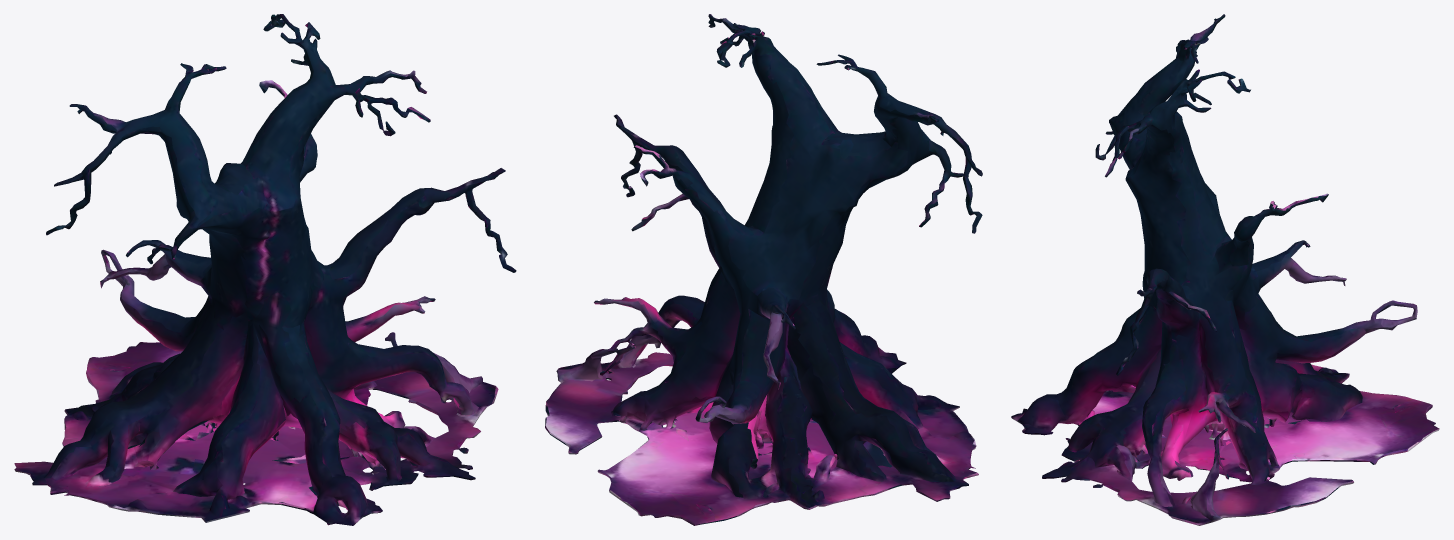
Rendered from sea-root-se-generated-2026-05-17T19-46-57-788Z.low.glb.
The picture shows the model from 3 angles, left to right: view 1: azimuth 30°, elevation 25°; view 2: azimuth 150°, elevation 25°; view 3: azimuth 270°, elevation 25°; orthographic projection. The views are drawn at different scales.
Parts seen in each view (by area): view 1: temp_mesh.ply; view 2: temp_mesh.ply; view 3: temp_mesh.ply.
Boxes of the visible parts, bbox=[...] form: temp_mesh.ply: bbox=[14, 14, 516, 525]; temp_mesh.ply: bbox=[545, 14, 982, 525]; temp_mesh.ply: bbox=[1011, 14, 1439, 525].
Bounding box in the file's own units: 1.97 × 1.75 × 1.83.
1 material, 1 textured.
